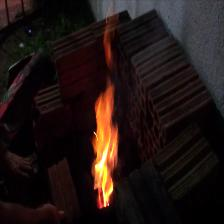fire: (75, 0, 135, 224)
